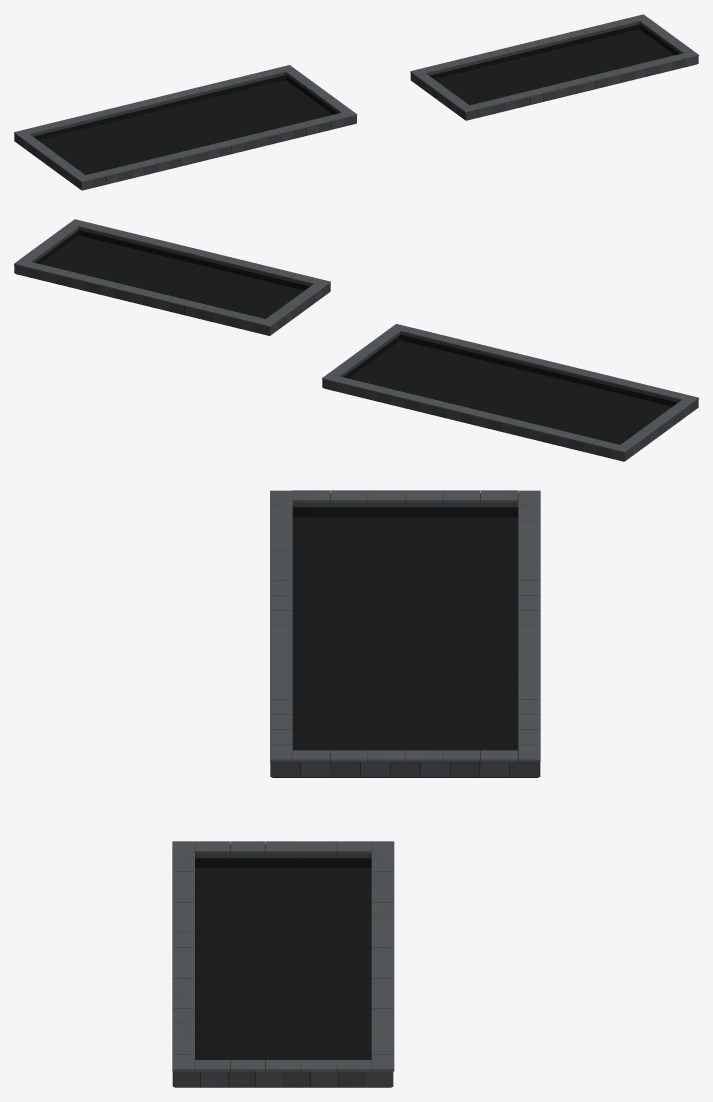
Rendered from atrium_ponds.glb.
The picture shows the model from 3 angles, top to bottom: view 1: azimuth 30°, elevation 25°; view 2: azimuth 150°, elevation 25°; view 3: azimuth 270°, elevation 25°; orthographic projection. The views are drawn at different scales.
Parts seen in each view (by area): view 1: atrium_ponds; view 2: atrium_ponds; view 3: atrium_ponds.
Part boxes in pixels (left/top/right/bottom): atrium_ponds: left=14, top=14, right=698, bottom=190; atrium_ponds: left=14, top=219, right=698, bottom=461; atrium_ponds: left=172, top=490, right=540, bottom=1087.
Bounding box in the file's own units: 28.04 × 0.4348 × 7.54.
Materials: 1 (1 with a texture image).
